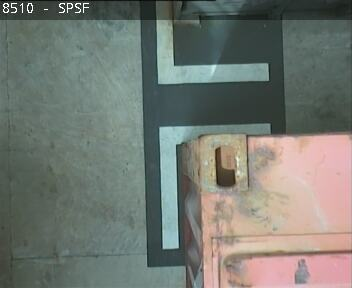groundmarker_1: (156, 1, 269, 249)
